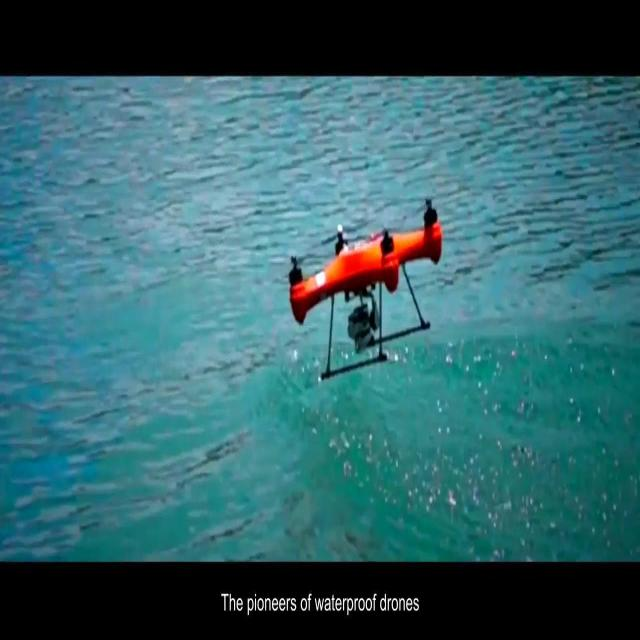drone: (285, 191, 444, 381)
